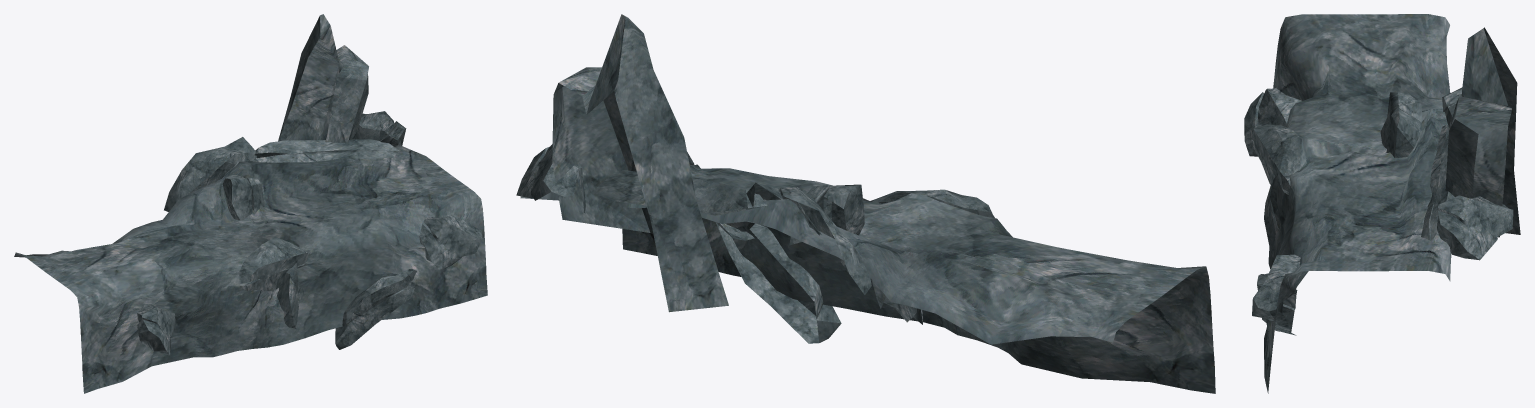
Rendered from GroundPiece3.fbx.
The picture shows the model from 3 angles, left to right: view 1: azimuth 30°, elevation 25°; view 2: azimuth 150°, elevation 25°; view 3: azimuth 270°, elevation 25°; orthographic projection. The views are drawn at different scales.
Parts seen in each view (by area): view 1: GroundPiece3; view 2: GroundPiece3; view 3: GroundPiece3.
Boxes of the visible parts, <box> form: GroundPiece3: <box>14,14,487,393</box>; GroundPiece3: <box>516,14,1215,393</box>; GroundPiece3: <box>1244,14,1520,393</box>.
Bounding box in the file's own units: 10.01 × 6.23 × 4.55.
2 materials, 2 textured.
